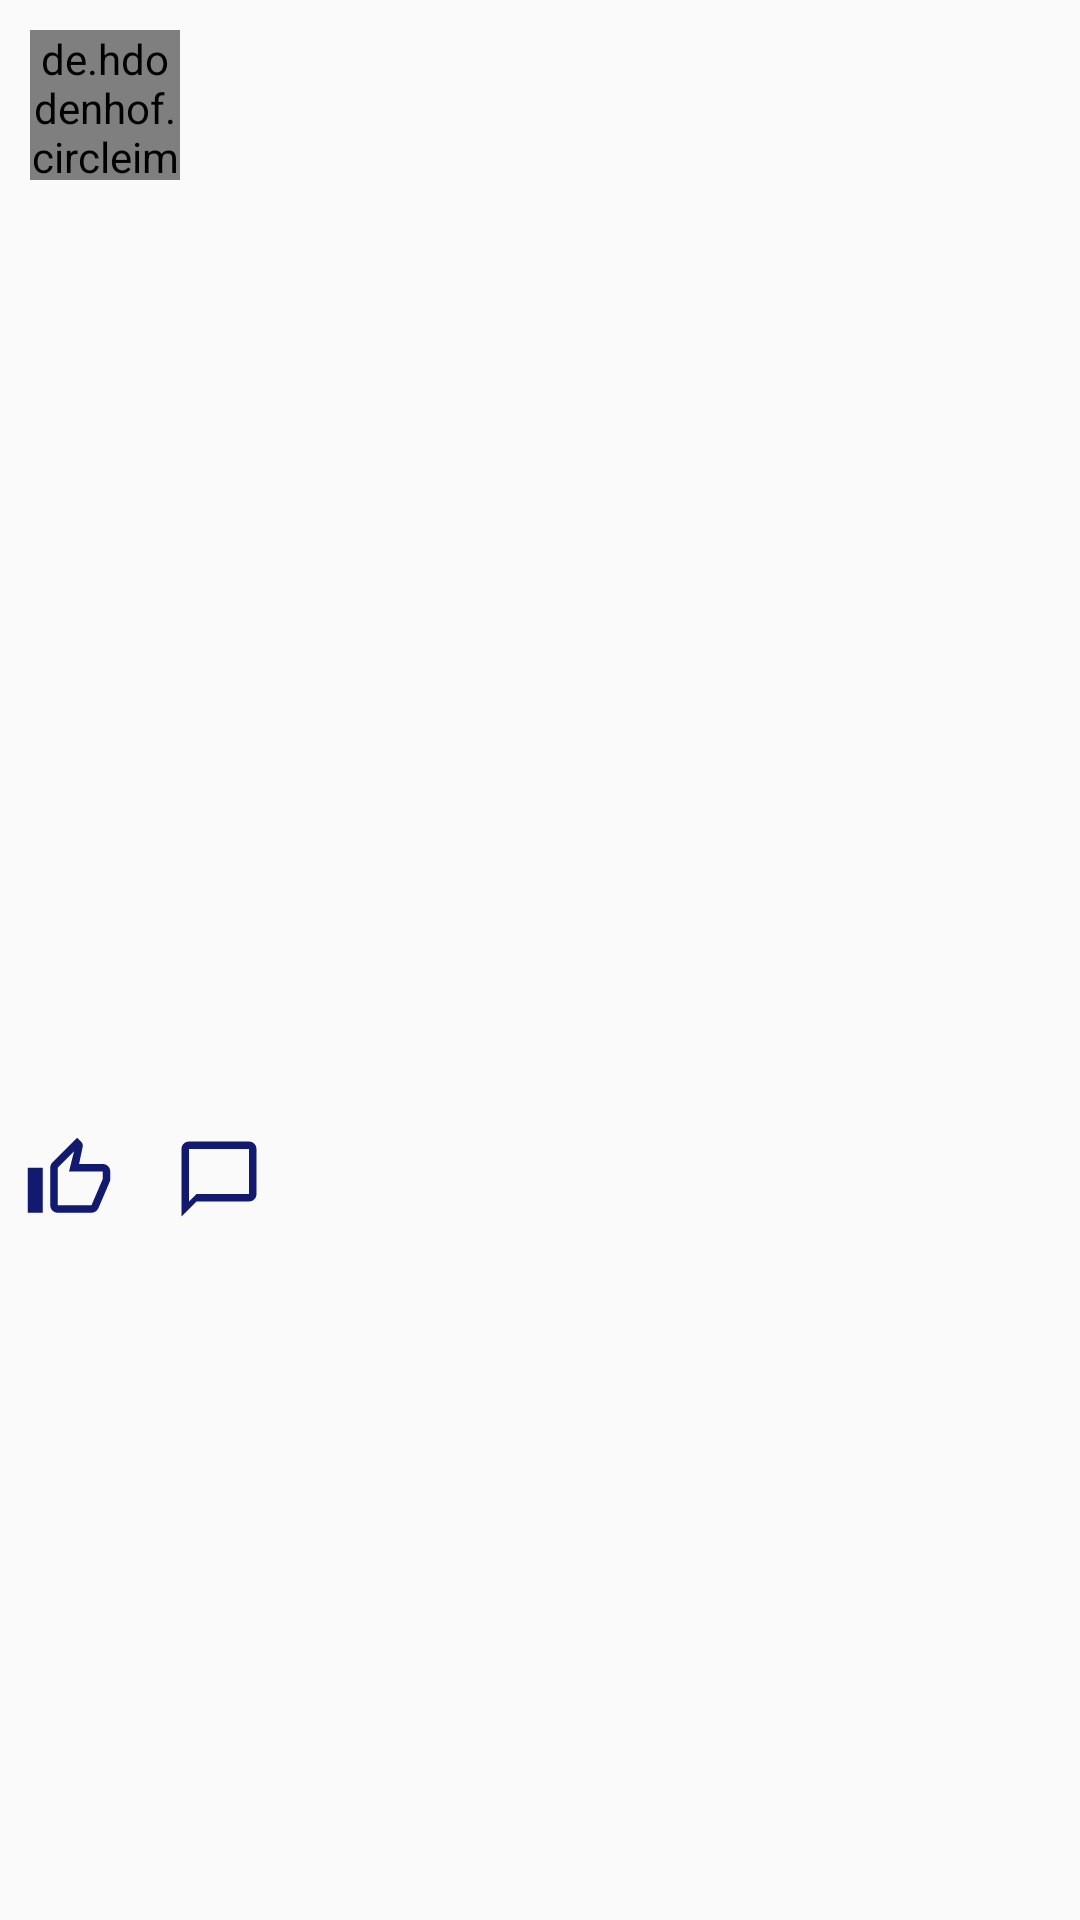

Screen size 1080px×1920px. Icon name, then its center in pixels as point (x, y):
comment: point (219, 1179)
like: point (69, 1175)
